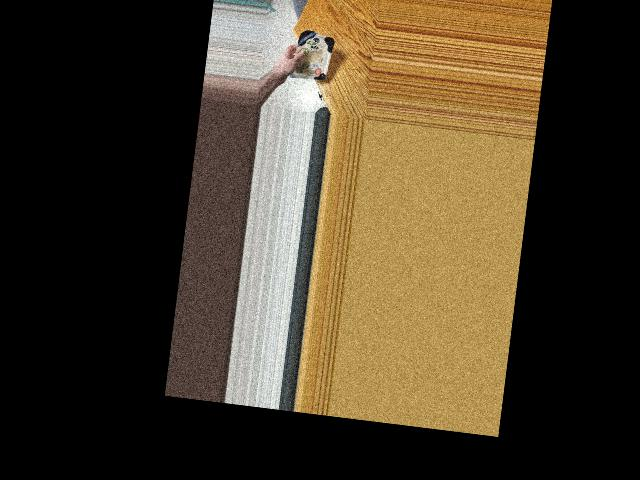cheese: (289, 27, 331, 88)
